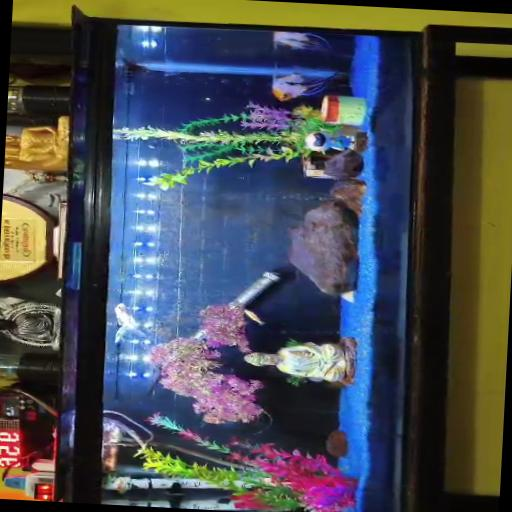Fish: (272, 73, 338, 101), (273, 31, 332, 52), (114, 304, 144, 342), (245, 310, 265, 325)
